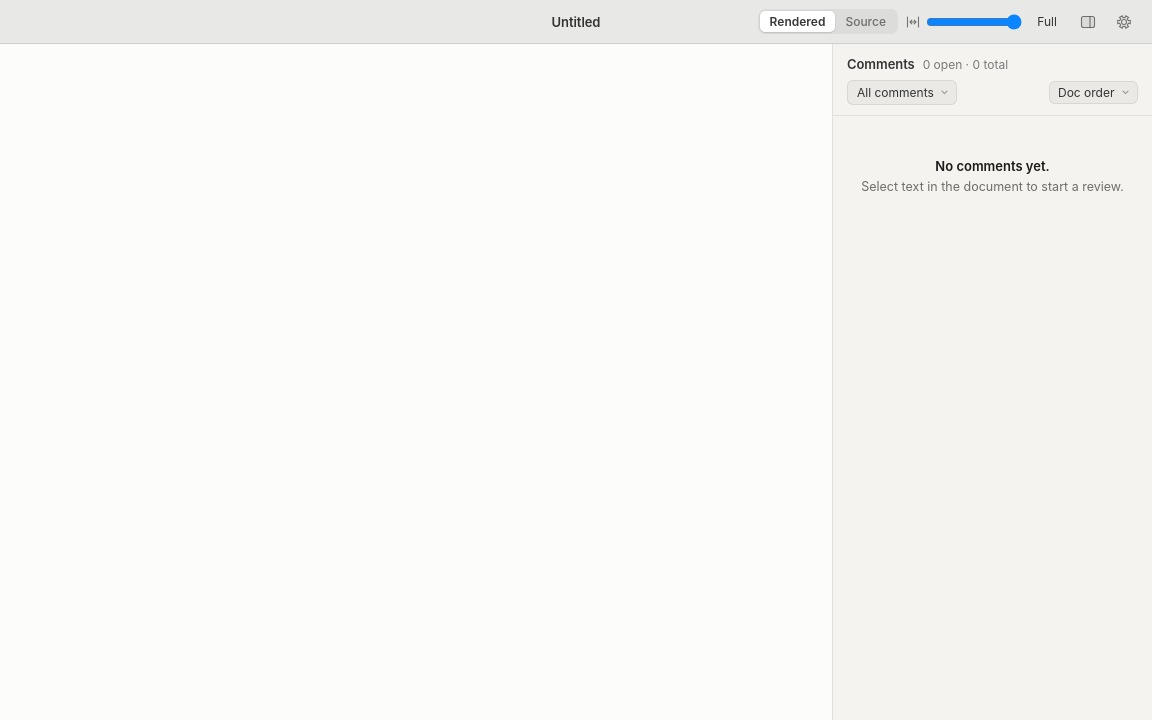
Test: Phase 11 — Settings modal › titlebar gear button opens Settings
Click the button with test id "fm-titlebar-settings". click: (1124, 22)
box: left=1110, top=10, right=1138, bottom=34
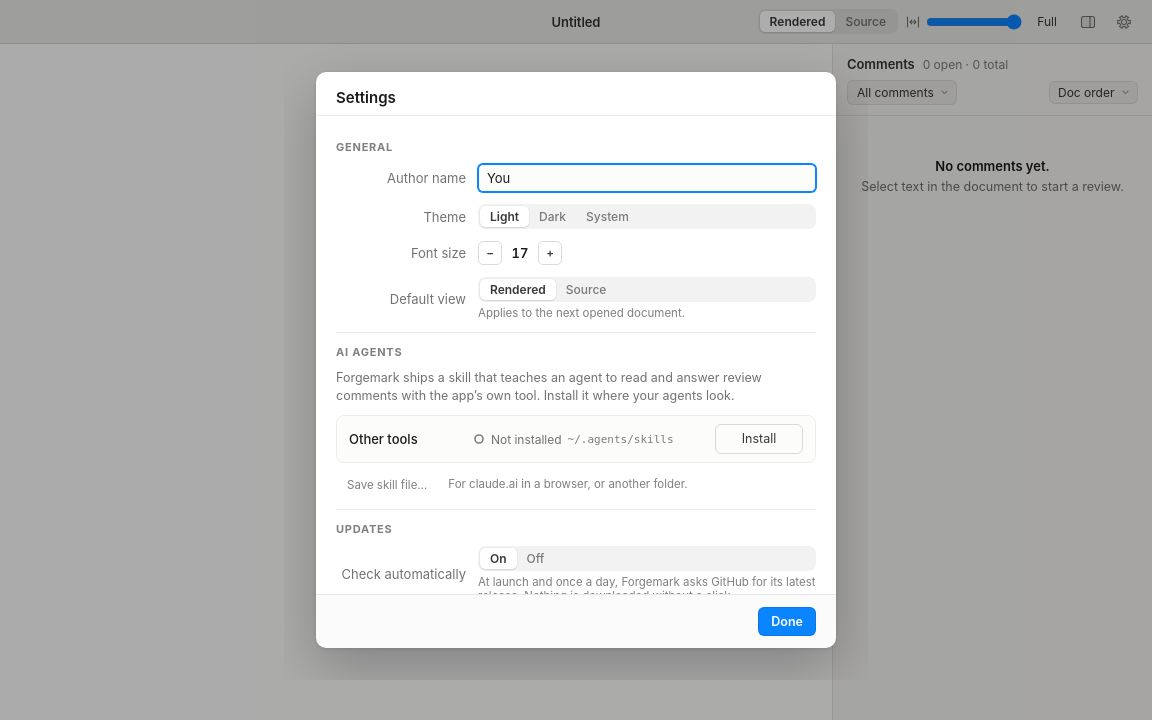
Result: the dialog with test id "fm-settings-modal" is shown at left=284, top=40, right=868, bottom=680
